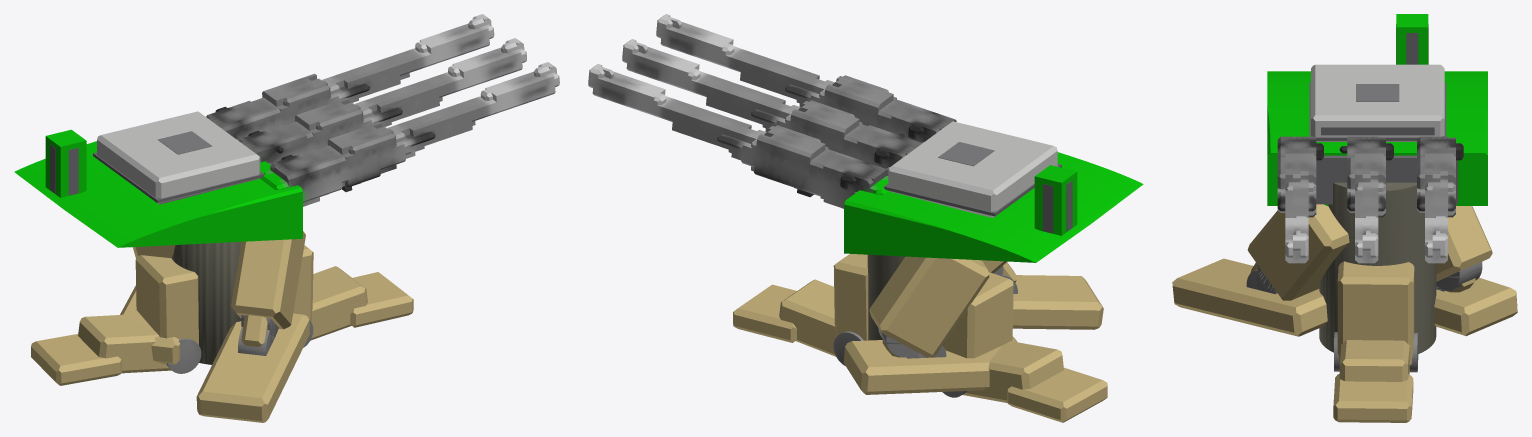
Rendered from juggernaut-deployed.glb.
3 views of the same model, side by side, from view 1: azimuth 30°, elevation 25°; view 2: azimuth 150°, elevation 25°; view 3: azimuth 270°, elevation 25° (orthographic). The views are drawn at different scales.
Parts seen in each view (by area): view 1: barrels, shell, hatch, foot (×2), limb_lo (×2), limb_up (×2), lfoot (×2), thigh, pivot, sensor, slot, lknee (+3 smaller); view 2: barrels, shell, foot (×2), hatch, thigh, limb_up (×2), limb_lo (×2), lfoot (×2), sensor, pivot, recess, slot (+1 smaller); view 3: barrels, foot (×2), shell, hatch, pivot, thigh (×2), limb_up, lfoot, limb_lo, front, sensor, slit (+5 smaller).
Boxes of the visible parts, x1,y1,x2,y2 form: barrels: (206, 14, 559, 206); shell: (14, 141, 302, 247); hatch: (97, 111, 260, 204); foot (×2): (120, 285, 309, 422); limb_lo (×2): (78, 266, 367, 373); limb_up (×2): (135, 245, 313, 344); lfoot (×2): (31, 272, 413, 385); thigh: (231, 231, 305, 329); pivot: (171, 242, 241, 364); sensor: (45, 129, 86, 197); slot: (93, 152, 264, 202); lknee: (166, 338, 201, 373); barrels: (588, 14, 956, 208); shell: (844, 152, 1143, 262); foot (×2): (843, 275, 1103, 394); hatch: (888, 121, 1057, 217); thigh: (869, 256, 989, 357); limb_up (×2): (833, 254, 1013, 358); limb_lo (×2): (779, 279, 1063, 402); lfoot (×2): (733, 284, 1107, 422); sensor: (1034, 165, 1077, 235); pivot: (867, 254, 904, 340); recess: (938, 142, 994, 166); slot: (884, 164, 1061, 216); barrels: (1277, 136, 1463, 263); foot (×2): (1172, 258, 1517, 336); shell: (1267, 71, 1487, 205); hatch: (1311, 64, 1444, 141); pivot: (1319, 182, 1436, 353); thigh (×2): (1247, 204, 1492, 300); limb_up: (1337, 261, 1414, 365); lfoot: (1333, 374, 1413, 422); limb_lo: (1339, 340, 1409, 381); front: (1316, 155, 1457, 204); sensor: (1396, 14, 1428, 64); slit: (1321, 127, 1434, 135).
Bounding box in the file's own units: 1.72 × 0.8544 × 1.04.
